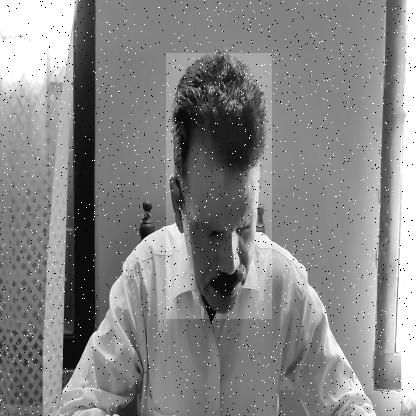Distracted: (166, 53, 272, 319)
